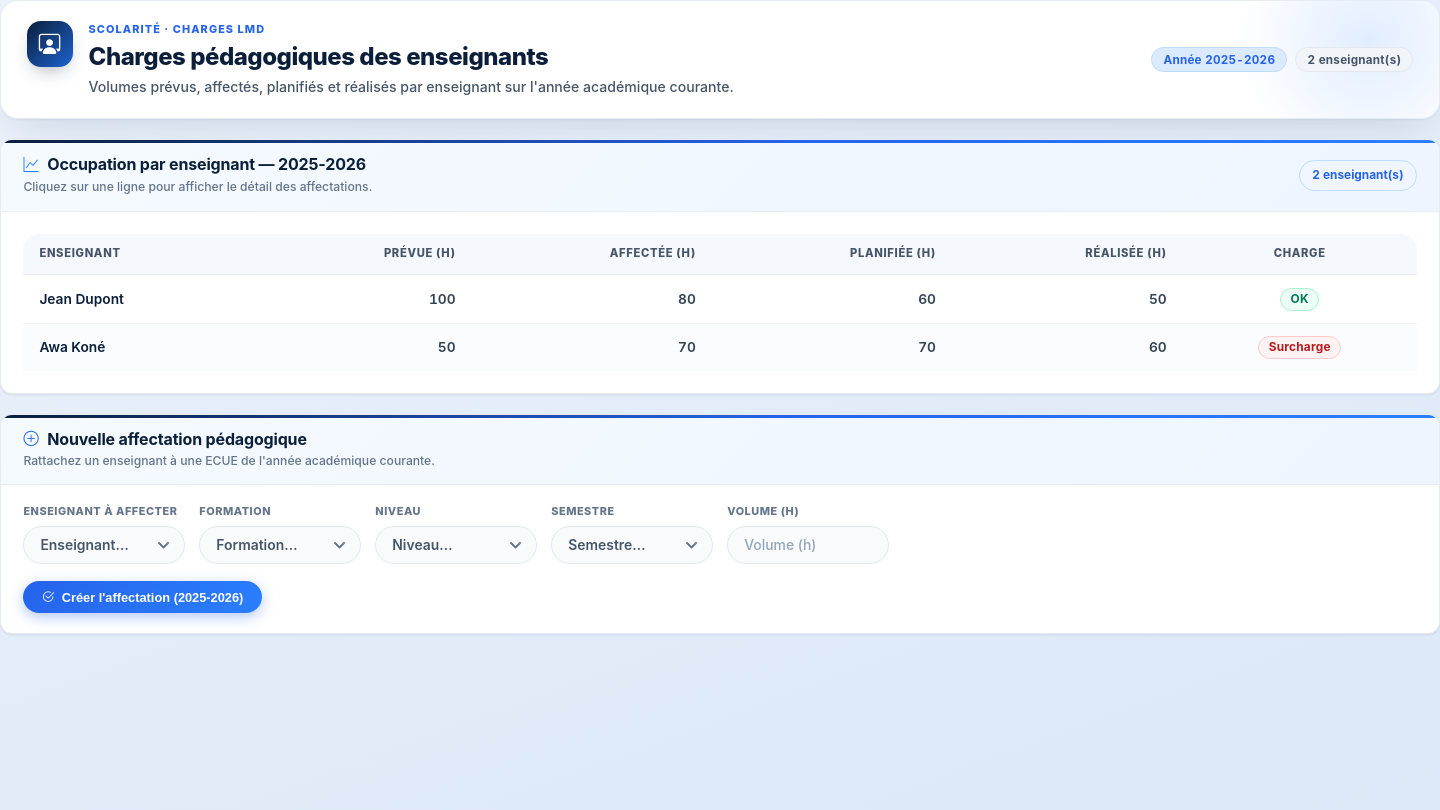
Test: pages/scolarite/ChargesEnseignants.jsx — détail enseignant (LOT 33) › charge la charge et les affectations d'un enseignant au clic sur sa ligne
The width and height of the screenshot is (1440, 810).
Expected: the text "Détail —" is not shown
Click the row "Jean Dupont 100 80 60 50 OK" at (720, 299), box [23,275,1417,324]
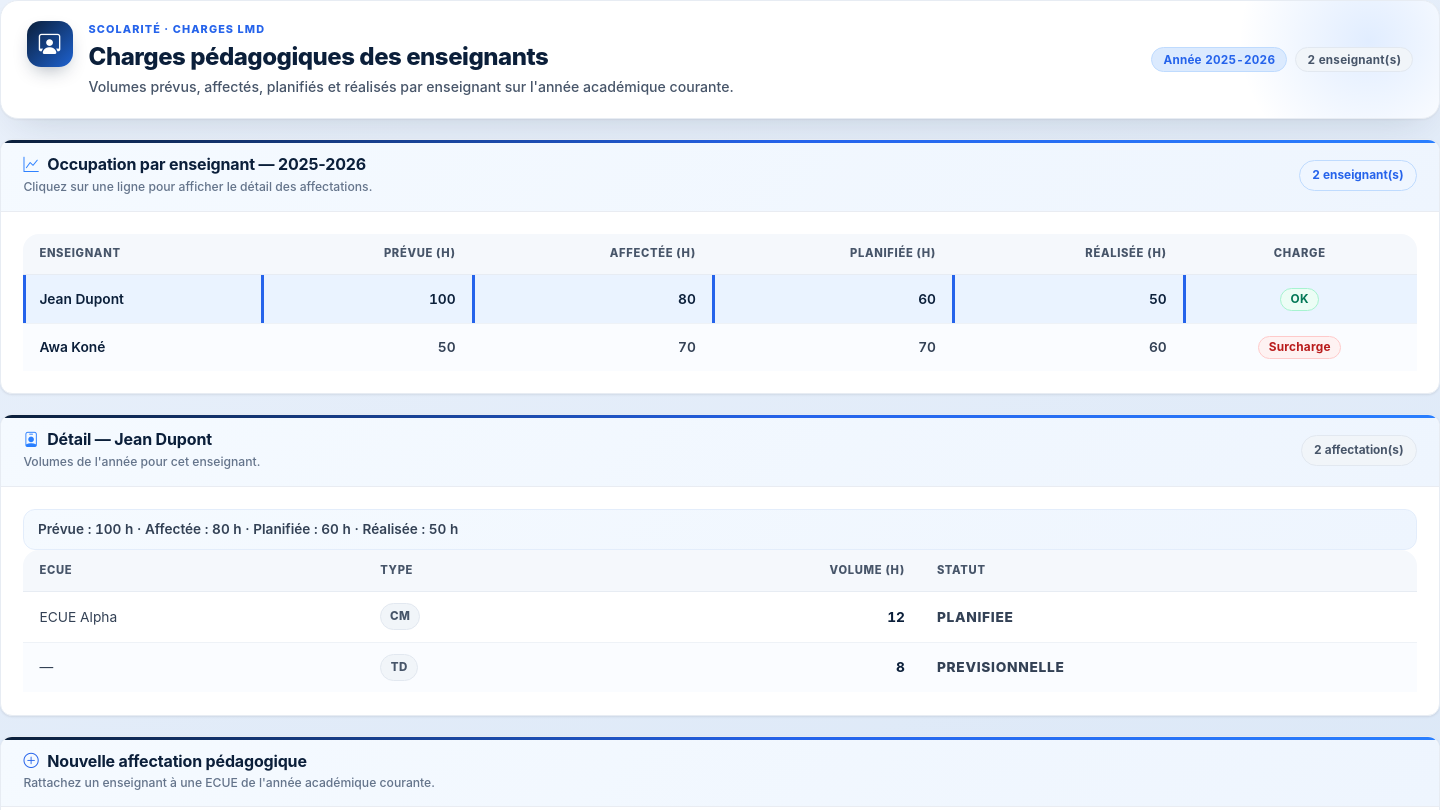
Now the element that starts with "Détail —" shows "Prévue : 100 h", box [0,414,1439,716]
Now the element that starts with "Détail —" shows "Affectée : 80 h", box [0,414,1439,716]
Now the element that starts with "Détail —" shows "Planifiée : 60 h", box [0,414,1439,716]
